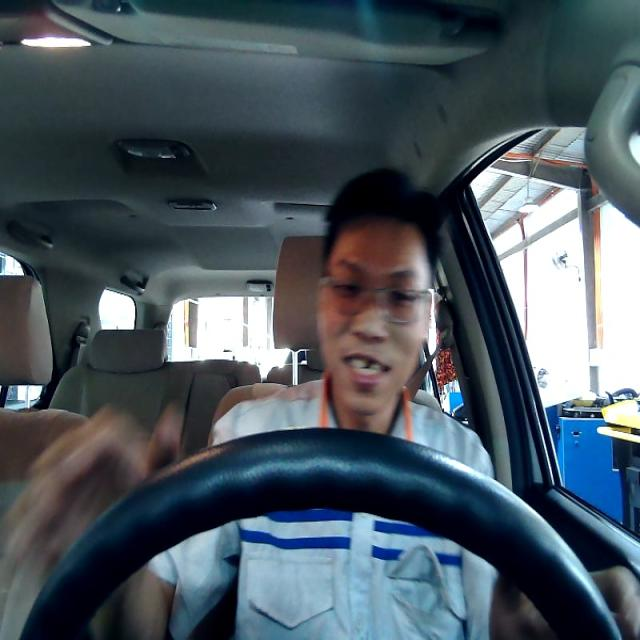focused: (316, 220, 432, 414)
